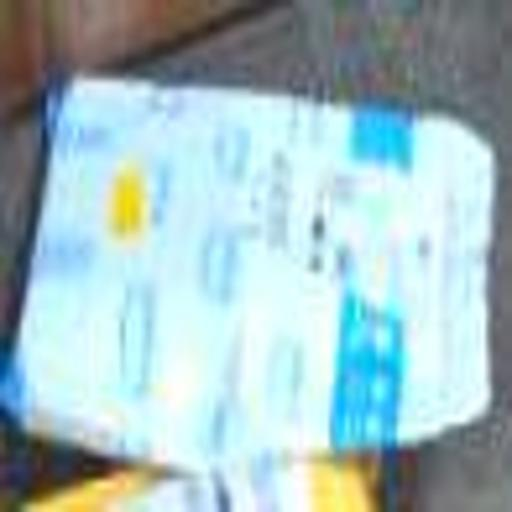Amazon: (46, 91, 472, 427)
